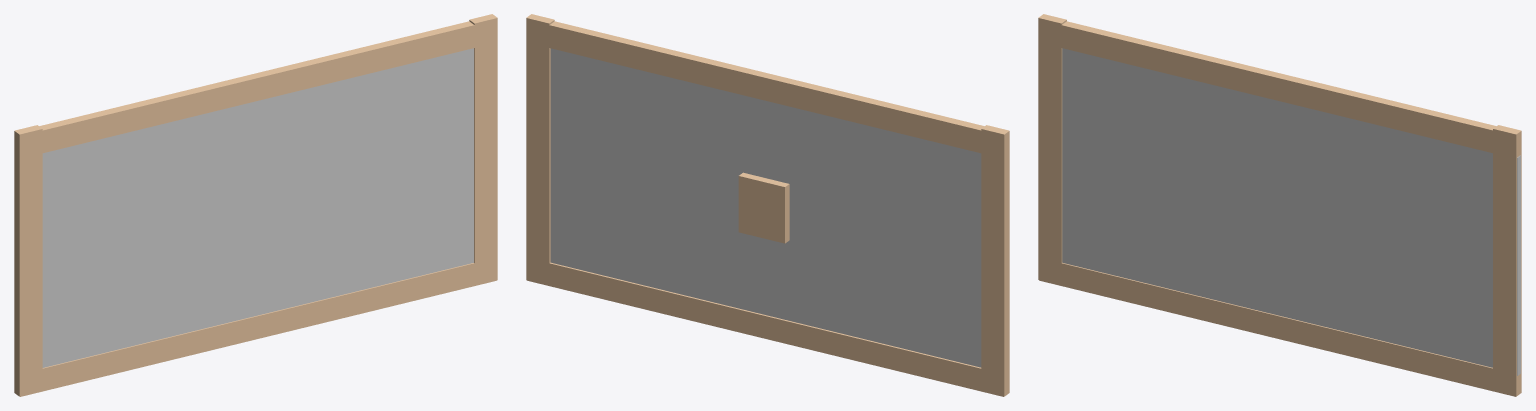
The model's file is Tran.fbx.
3 views of the same model, side by side, from view 1: azimuth 30°, elevation 25°; view 2: azimuth 150°, elevation 25°; view 3: azimuth 330°, elevation 25° (orthographic).
Parts seen in each view (by area): view 1: Cube, Cube.031, Cube.001, Cube.003, Cube.002; view 2: Cube, Cube.031, Cube.001, Cube.003, Cube.002, Cube.004; view 3: Cube, Cube.031, Cube.001, Cube.002, Cube.003.
Part boxes in pixels (box(x1,y1,x2,y2)): Cube: box(42, 48, 473, 367); Cube.031: box(20, 19, 497, 158); Cube.001: box(20, 258, 497, 396); Cube.003: box(14, 125, 42, 396); Cube.002: box(469, 14, 497, 285); Cube: box(550, 48, 981, 367); Cube.031: box(526, 20, 1003, 158); Cube.001: box(526, 258, 1003, 396); Cube.003: box(981, 125, 1009, 396); Cube.002: box(526, 14, 554, 285); Cube.004: box(738, 172, 789, 243); Cube: box(1062, 48, 1520, 375); Cube.031: box(1039, 20, 1515, 158); Cube.001: box(1039, 258, 1515, 396); Cube.002: box(1493, 125, 1521, 396); Cube.003: box(1038, 14, 1066, 285).
Size of the model in its own units: 404 by 212 by 12.73.
